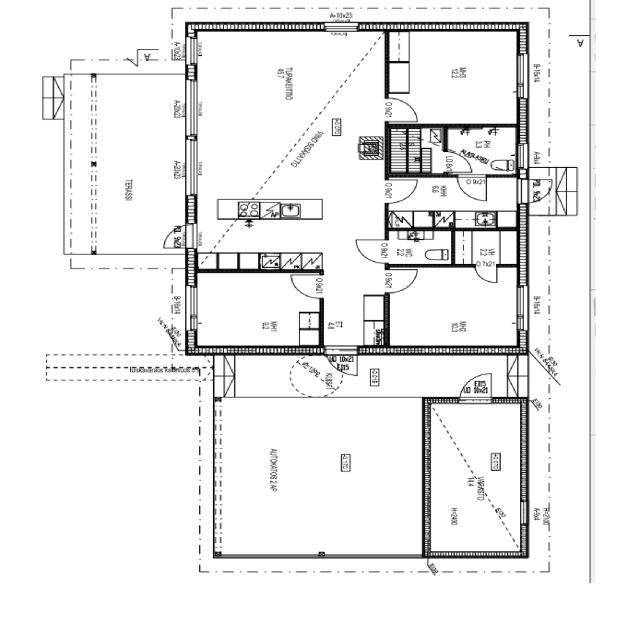door: (287, 269, 329, 300), (456, 370, 496, 402), (382, 93, 422, 124), (351, 235, 391, 265), (382, 175, 422, 205), (382, 265, 423, 294), (159, 222, 198, 252), (324, 348, 359, 380), (455, 173, 491, 202), (440, 150, 474, 172), (474, 264, 499, 284), (186, 38, 202, 64)
window: (180, 76, 204, 196), (184, 134, 205, 199), (182, 77, 202, 142), (183, 279, 203, 331), (514, 50, 532, 102), (515, 284, 530, 332), (321, 20, 362, 34), (516, 497, 532, 528), (187, 36, 201, 65), (187, 222, 199, 252)
zone: (187, 24, 389, 269), (207, 396, 426, 557), (64, 70, 193, 262), (426, 398, 530, 556), (385, 30, 521, 126), (384, 265, 522, 353), (190, 270, 323, 356), (387, 175, 522, 231), (193, 216, 324, 270), (444, 126, 518, 176), (389, 124, 446, 176), (452, 230, 521, 266), (386, 230, 454, 266), (446, 170, 499, 212), (383, 266, 420, 293)
